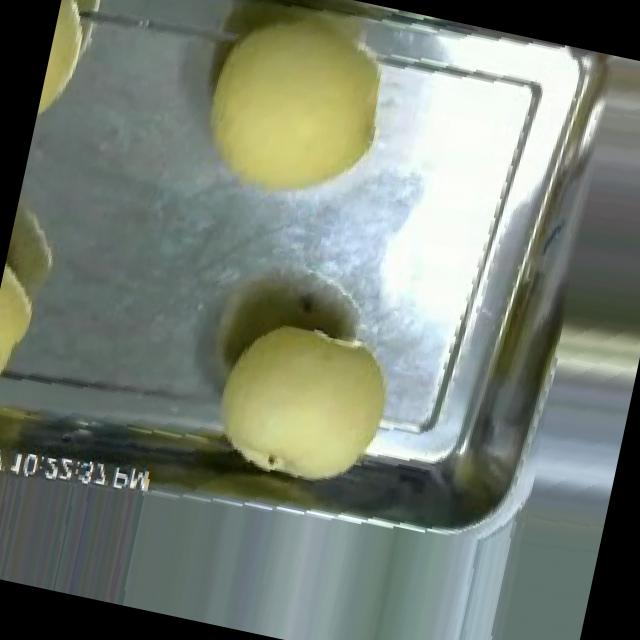Fruit: (178, 0, 413, 229), (194, 300, 410, 507), (0, 173, 81, 336), (29, 0, 112, 158), (0, 241, 56, 431)
